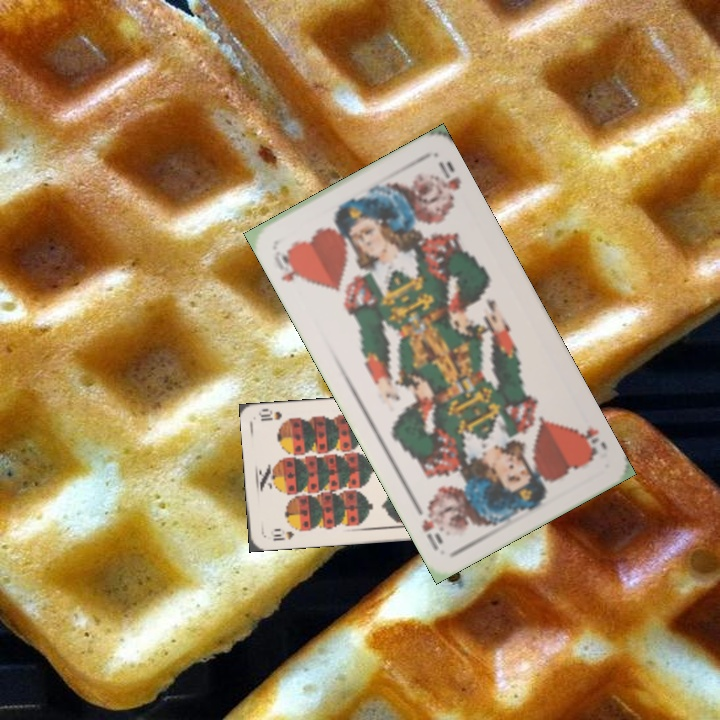HO: (572, 423, 610, 463), (276, 246, 307, 285)
S10: (269, 527, 296, 543)
